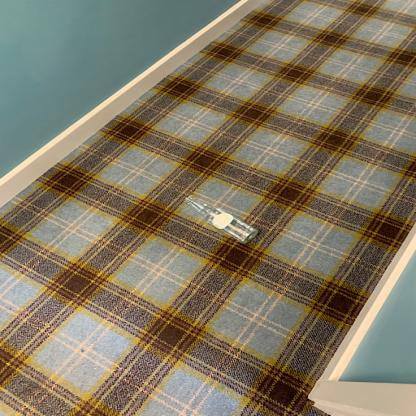trash: (183, 194, 264, 248)
